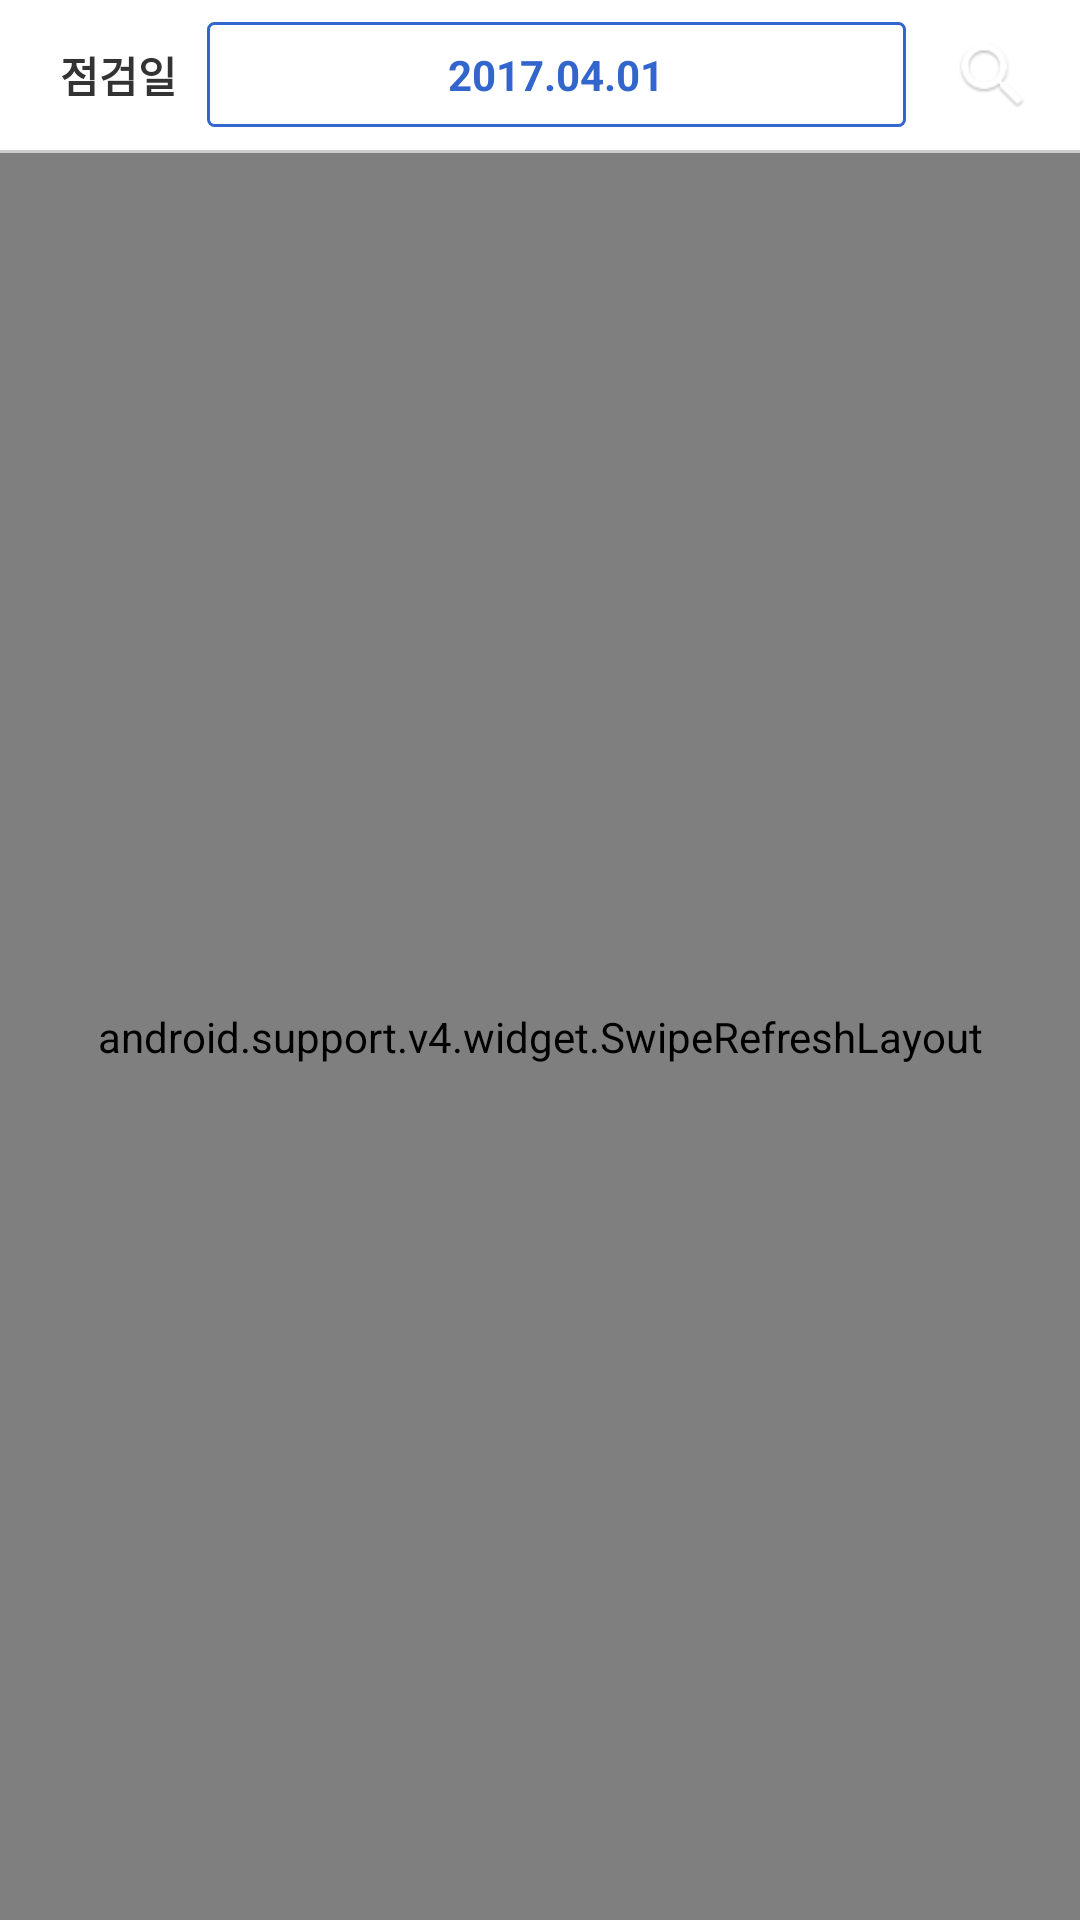

Named icons in this screenshot (1080px x 1920px) and their centers, [x,y]:
top search: [992,78]
